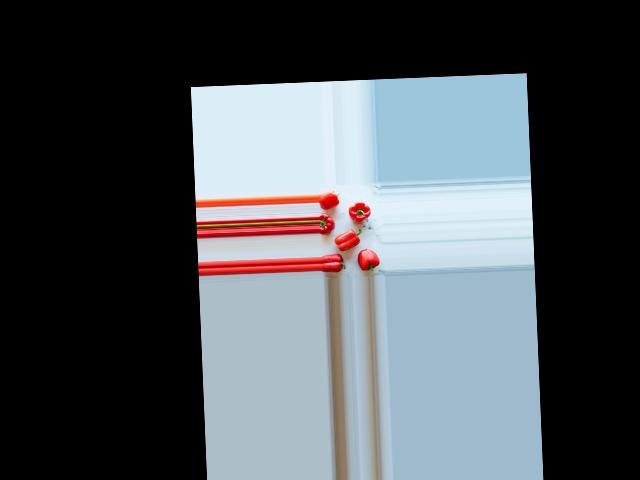bell_pepper: (319, 213, 336, 235)
